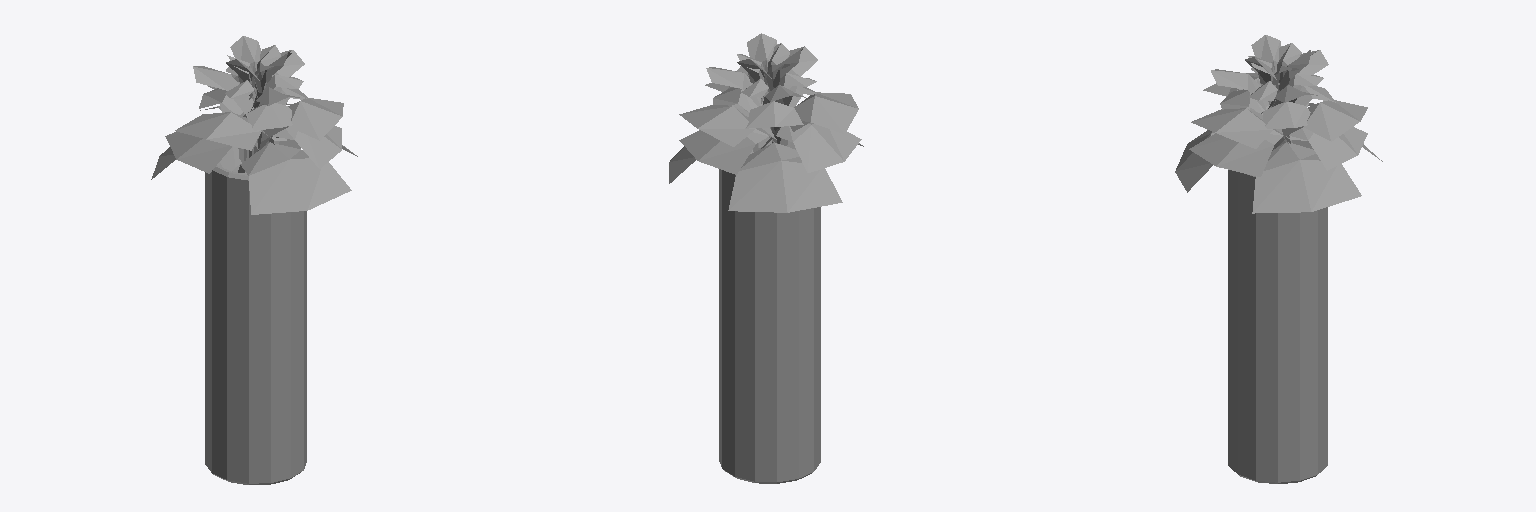
Rendered from cylinder_shrub.obj.
3 renders of one model, left to right at view 1: azimuth 30°, elevation 25°; view 2: azimuth 150°, elevation 25°; view 3: azimuth 270°, elevation 25°, orthographic.
Visible parts, largest first — view 1: Shrub.001; view 2: Shrub.001; view 3: Shrub.001.
Part boxes in pixels (left/top/right/bottom): Shrub.001: left=151, top=36, right=357, bottom=484; Shrub.001: left=669, top=33, right=863, bottom=483; Shrub.001: left=1175, top=35, right=1382, bottom=483.
Size of the model in its own units: 0.6081 by 1.35 by 0.6152.